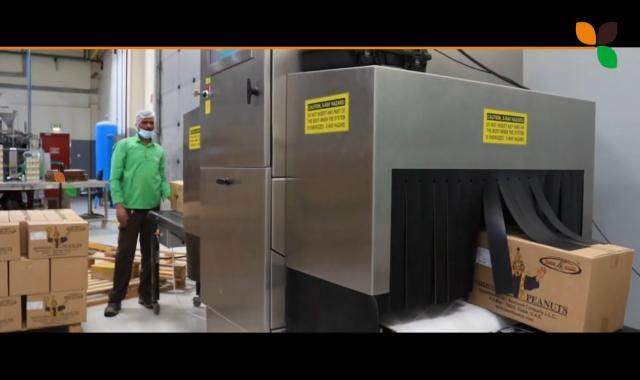Hairnet: (133, 110, 157, 127)
Mask: (138, 130, 154, 138)
No_Apron: (118, 137, 166, 211)
No_Glove: (115, 205, 129, 225)
